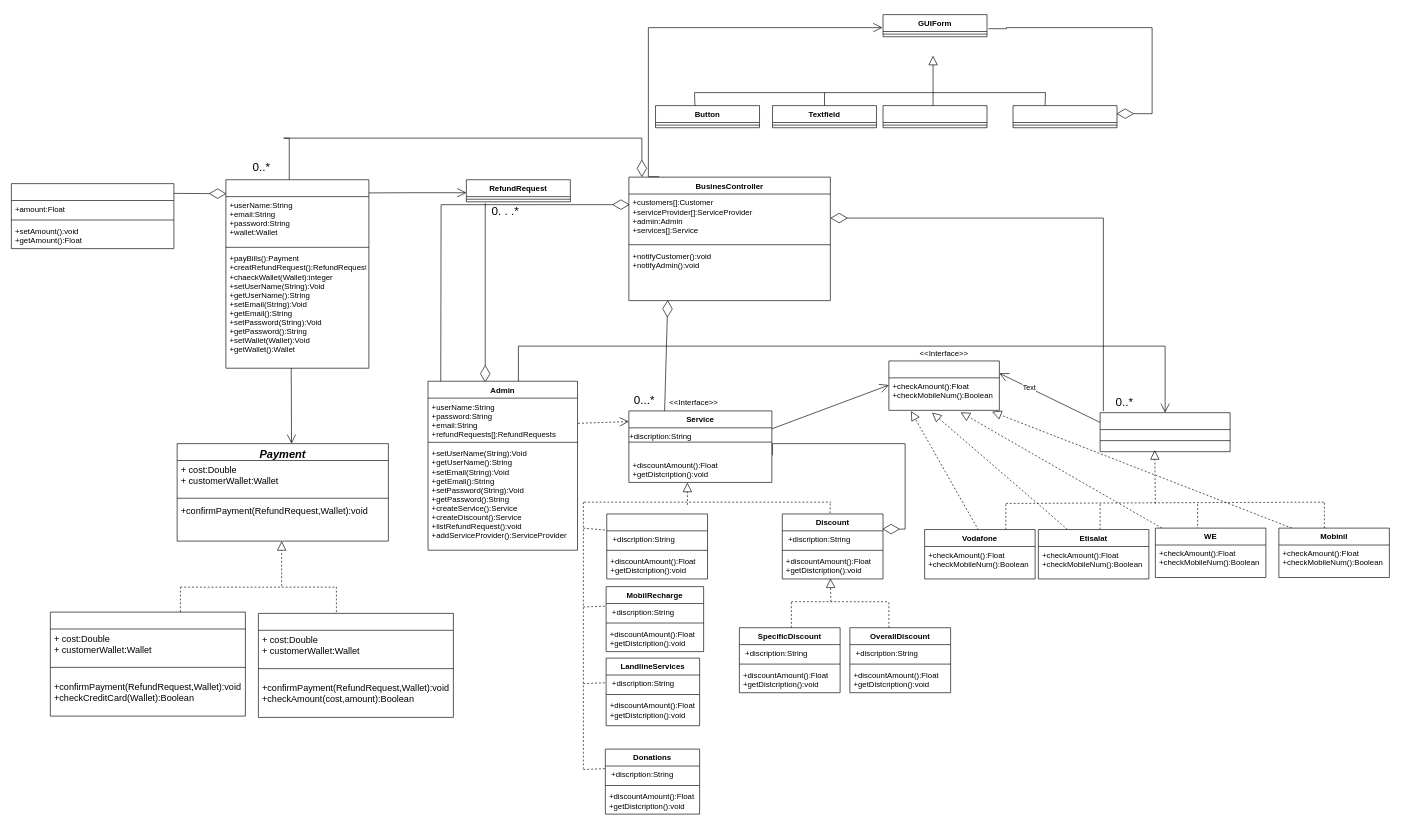
Image size: 1401x827. Some labels were removed from this diagram. Each missing label, with the box of its shape:
CashPayment: (258, 613, 453, 717)
CreditCardPayment: (50, 611, 245, 716)
Customer: (225, 179, 369, 368)
DropDownfield: (882, 105, 987, 128)
Form: (1012, 105, 1117, 128)
Handler: (888, 360, 999, 410)
InternetPayment: (606, 513, 708, 579)
ServiceProvider: (1099, 412, 1230, 452)
Wallet: (11, 183, 174, 249)
